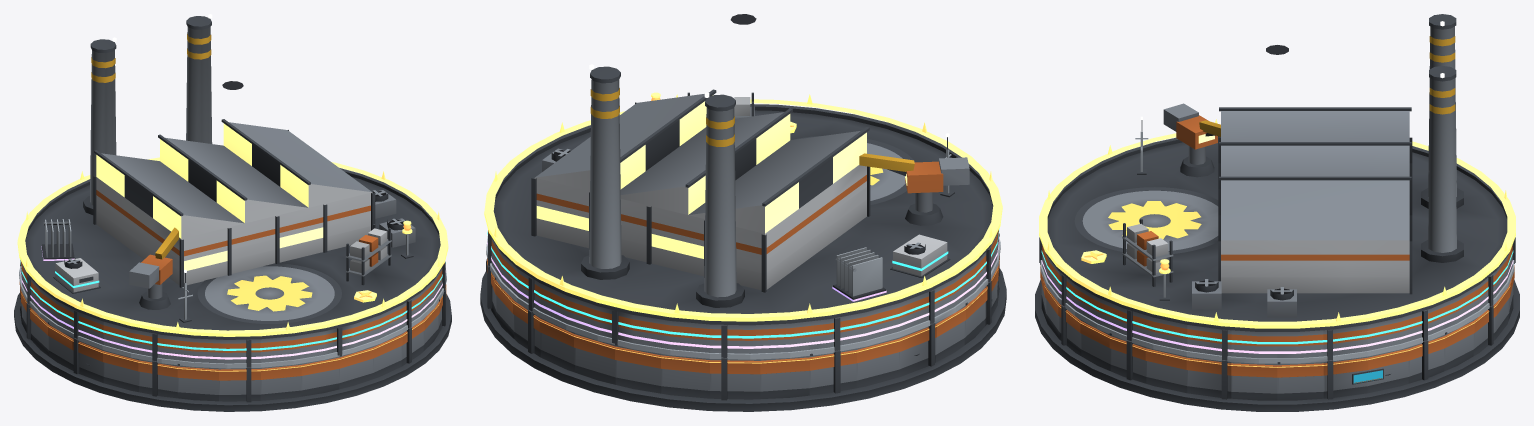
File: workshop.glb
3 views of the same model, side by side, from view 1: azimuth 30°, elevation 25°; view 2: azimuth 150°, elevation 25°; view 3: azimuth 270°, elevation 25° (orthographic). The views are drawn at different scales.
Parts seen in each view (by area): view 1: Roof, Base, Wall_21, Wall_22, Wall_20, Wall_19, Wall_23, L3, Wall_18, Wall_24, Wall_17, L4 (+19 smaller); view 2: Roof, Base, L4, Wall_10, Wall_11, Wall_09, Wall_12, Wall_08, L3, Wall_13, Wall_07, Wall_14 (+21 smaller); view 3: Roof, Base, Wall_00, Wall_31, Wall_30, Wall_29, Wall_01, Wall_02, Wall_28, Wall_03, Wall_04, Wall_27 (+20 smaller).
Part boxes in pixels (left/top/right/bottom): Roof: left=21, top=14, right=443, bottom=339; Base: left=14, top=293, right=451, bottom=411; Wall_21: left=219, top=367, right=260, bottom=402; Wall_22: left=260, top=363, right=301, bottom=400; Wall_20: left=177, top=363, right=218, bottom=401; Wall_19: left=138, top=359, right=177, bottom=398; Wall_23: left=301, top=356, right=339, bottom=396; L3: left=53, top=258, right=100, bottom=293; Wall_18: left=103, top=350, right=138, bottom=392; Wall_24: left=339, top=346, right=373, bottom=389; Wall_17: left=72, top=338, right=103, bottom=382; L4: left=41, top=219, right=74, bottom=260; Roof: left=490, top=14, right=993, bottom=325; Base: left=480, top=268, right=1006, bottom=411; L4: left=832, top=247, right=886, bottom=301; Wall_10: left=710, top=358, right=760, bottom=400; Wall_11: left=760, top=356, right=809, bottom=398; Wall_09: left=661, top=354, right=709, bottom=398; Wall_12: left=809, top=348, right=857, bottom=395; Wall_08: left=615, top=343, right=661, bottom=393; L3: left=890, top=234, right=950, bottom=277; Wall_13: left=856, top=337, right=899, bottom=387; Wall_07: left=574, top=333, right=615, bottom=384; Wall_14: left=899, top=323, right=936, bottom=377; Roof: left=1046, top=14, right=1508, bottom=331; Base: left=1035, top=279, right=1519, bottom=411; Wall_00: left=1277, top=362, right=1323, bottom=400; Wall_31: left=1231, top=362, right=1277, bottom=400; Wall_30: left=1186, top=356, right=1231, bottom=399; Wall_29: left=1145, top=347, right=1187, bottom=393; Wall_01: left=1323, top=356, right=1368, bottom=399; Wall_02: left=1367, top=347, right=1409, bottom=393; Wall_28: left=1109, top=333, right=1146, bottom=383; Wall_03: left=1408, top=335, right=1445, bottom=383; Wall_04: left=1444, top=320, right=1474, bottom=370; Wall_27: left=1080, top=320, right=1110, bottom=370.
Bounding box in the file's own units: 14.75 × 8.89 × 14.75.
